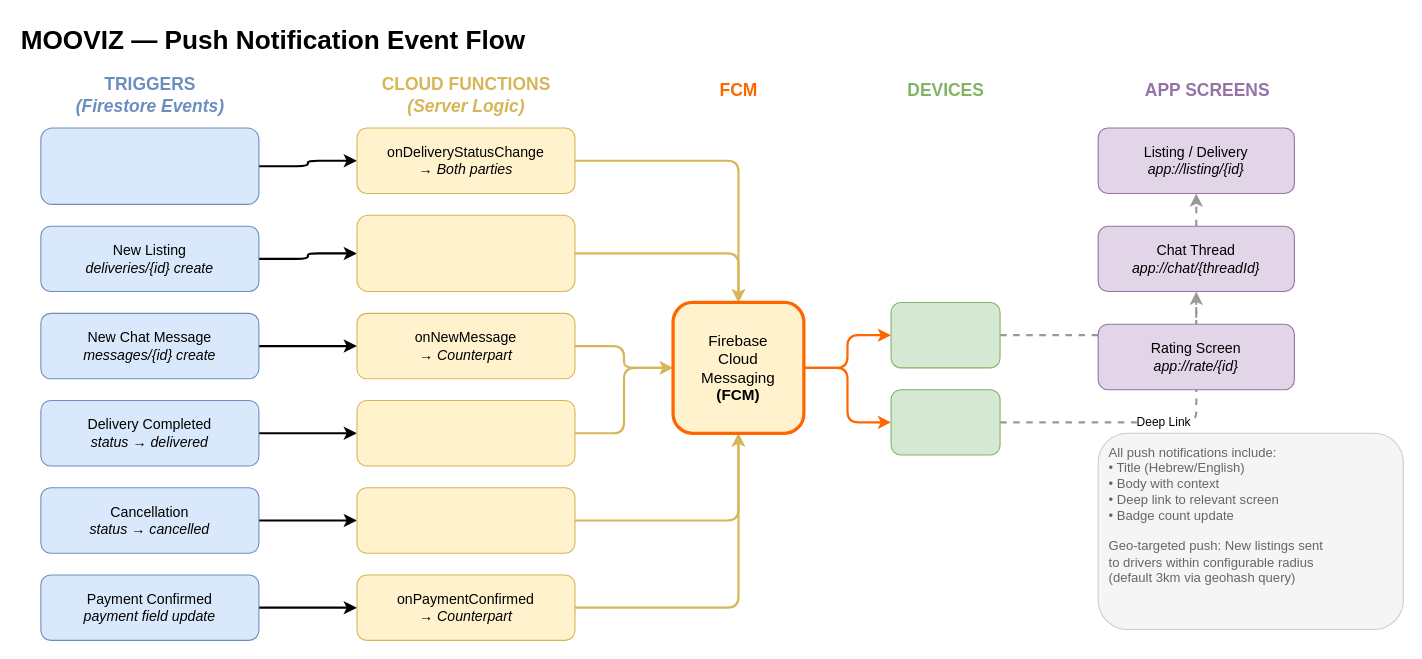
Image size: 1422x659. Some labels were removed from this diagram. Here are the shapes that lost their labels. From the top down, the box of each, then its label:
(40, 127, 259, 204): Status Change Pending/Approved/ PickedUp/Delivered
(356, 214, 575, 292): onNewDelivery → Drivers in radius (geohash query)
(890, 301, 1000, 368): iOS APNs
(356, 399, 575, 466): onDeliveryDelivered → Both: rate request
(890, 389, 1000, 455): Android FCM Transport
(356, 487, 575, 553): onDeliveryCancelled → Counterpart
